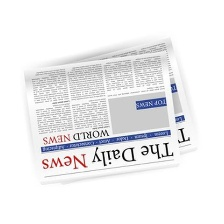news_paper: (39, 34, 209, 166), (22, 52, 183, 188)
